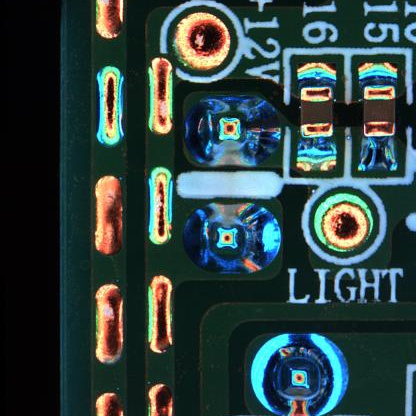spot: (244, 329, 353, 416), (179, 199, 286, 279), (181, 93, 284, 171), (310, 188, 378, 257), (167, 10, 237, 73)
